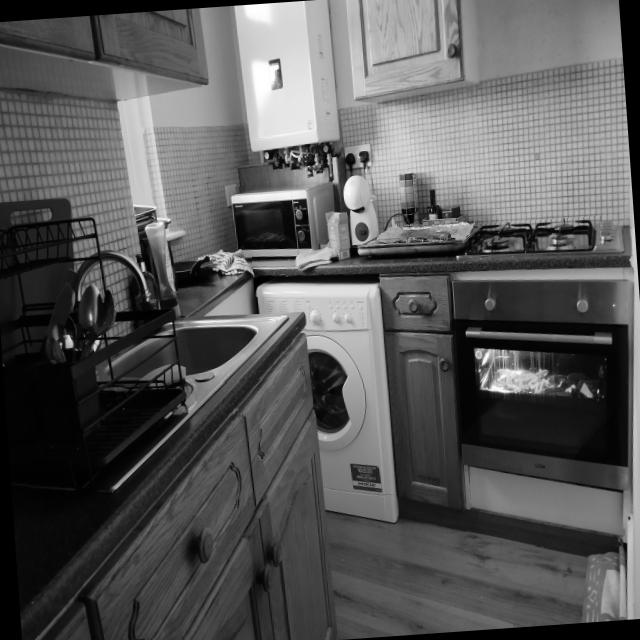cabinet: (45, 340, 330, 640), (379, 277, 465, 510), (0, 8, 208, 102), (347, 0, 464, 99)
countertop: (20, 314, 305, 640), (254, 229, 636, 292)
microwave: (230, 182, 335, 255)
oven: (450, 268, 634, 540)
shower: (95, 318, 281, 384)
sofa: (452, 222, 602, 261)
